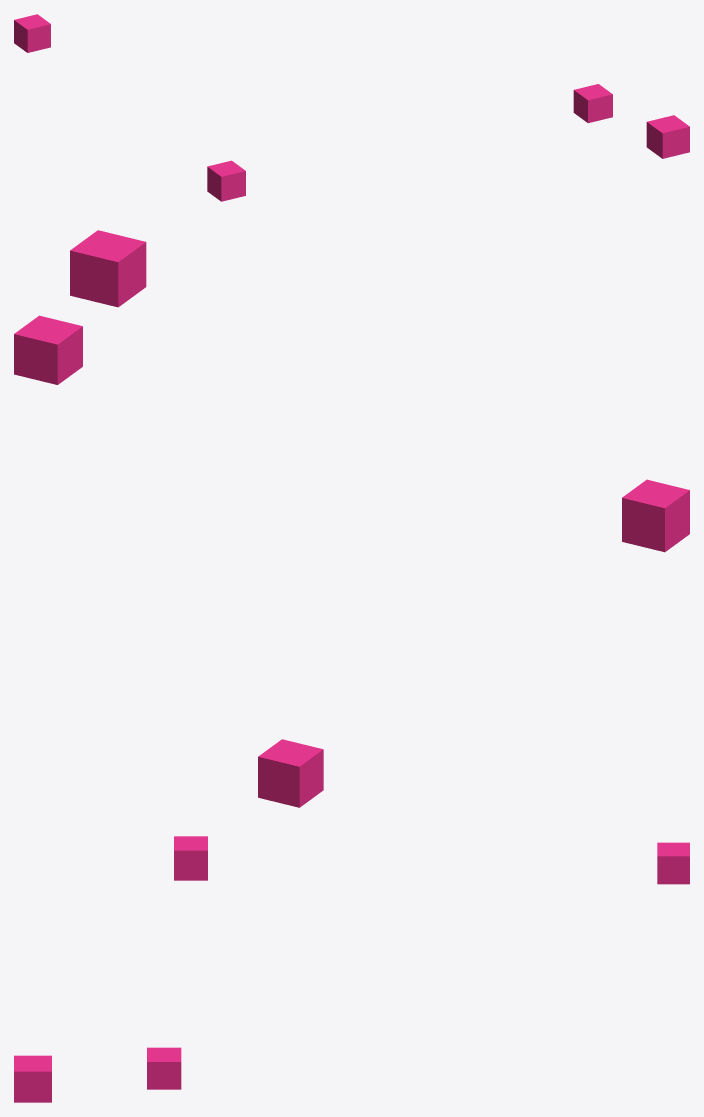
Rendered from zhengfangxing.obj.
3 views of the same model, one above another, from view 1: azimuth 30°, elevation 25°; view 2: azimuth 150°, elevation 25°; view 3: azimuth 270°, elevation 25° (orthographic). The views are drawn at different scales.
Parts seen in each view (by area): view 1: Mesh1 Model, Mesh3 Model, Mesh2 Model, Mesh4 Model; view 2: Mesh1 Model, Mesh3 Model, Mesh2 Model, Mesh4 Model; view 3: Mesh1 Model, Mesh3 Model, Mesh2 Model, Mesh4 Model.
Boxes of the visible parts, left/top/right/bottom form: Mesh1 Model: left=646, top=115, right=689, bottom=158; Mesh3 Model: left=207, top=160, right=245, bottom=201; Mesh2 Model: left=573, top=84, right=612, bottom=123; Mesh4 Model: left=14, top=14, right=50, bottom=52; Mesh1 Model: left=70, top=230, right=146, bottom=307; Mesh3 Model: left=622, top=479, right=689, bottom=552; Mesh2 Model: left=14, top=315, right=82, bottom=384; Mesh4 Model: left=258, top=739, right=323, bottom=807; Mesh1 Model: left=14, top=1055, right=51, bottom=1102; Mesh3 Model: left=174, top=836, right=207, bottom=880; Mesh2 Model: left=147, top=1047, right=181, bottom=1089; Mesh4 Model: left=657, top=842, right=689, bottom=884.
Bounding box in the file's own units: 78.02 × 4.75 × 94.37.
